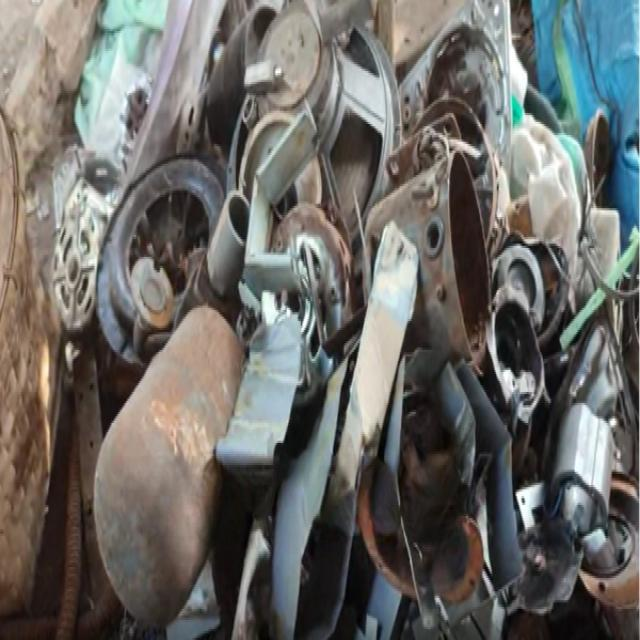Cylinder: (94, 309, 244, 625)
others: (52, 176, 112, 335)
